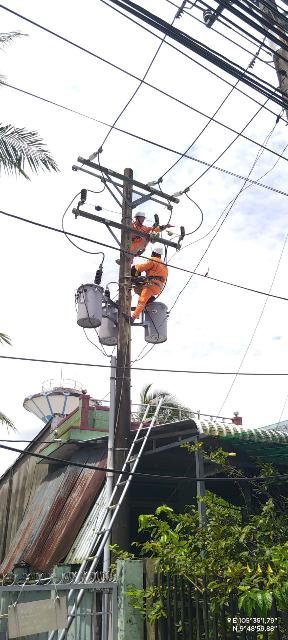harness: (135, 274, 168, 286), (129, 233, 147, 242)
helmet: (151, 245, 168, 255), (132, 210, 148, 219)
shoes: (119, 310, 136, 325), (148, 231, 162, 245)
